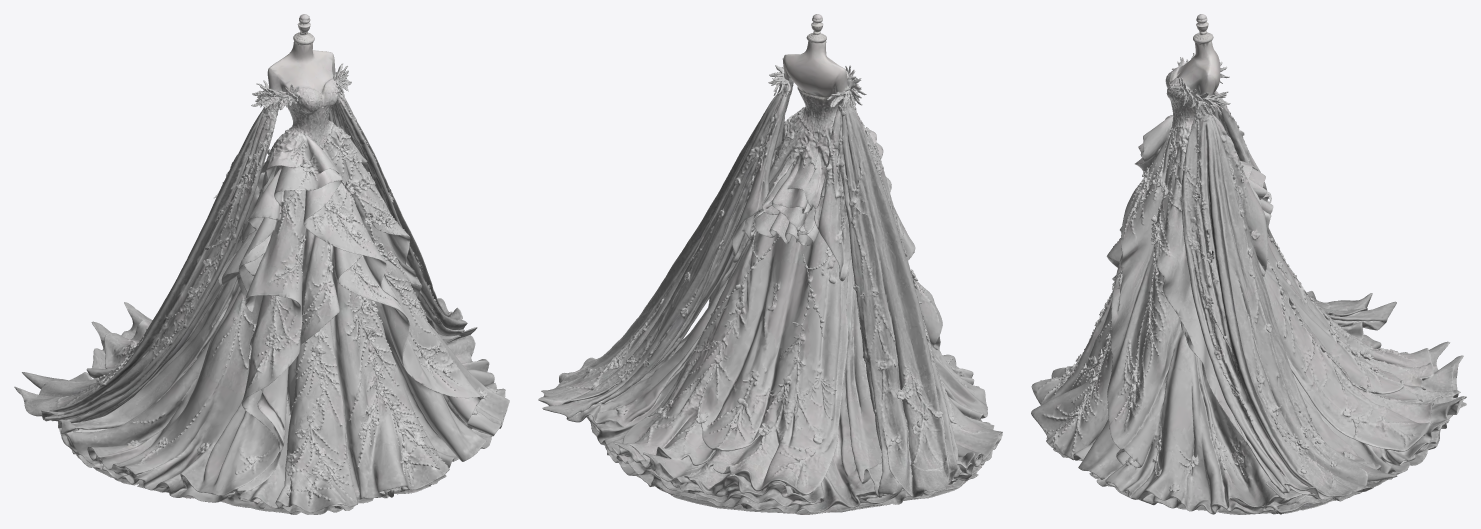
Rendered from couture.glb.
3 views of the same model, side by side, from view 1: azimuth 30°, elevation 25°; view 2: azimuth 150°, elevation 25°; view 3: azimuth 270°, elevation 25° (orthographic). The views are drawn at different scales.
Bounding box in the file's own units: 1.9 × 1.84 × 1.77.
Materials: 1 (1 with a texture image).
